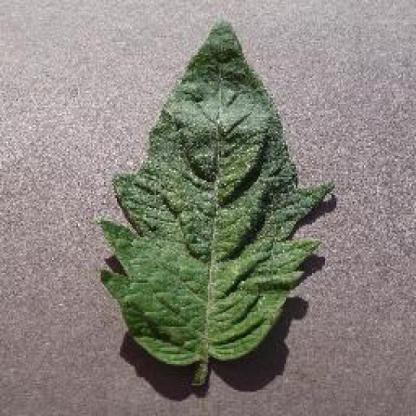Tomato_Spider_Mites: (98, 20, 330, 364)
